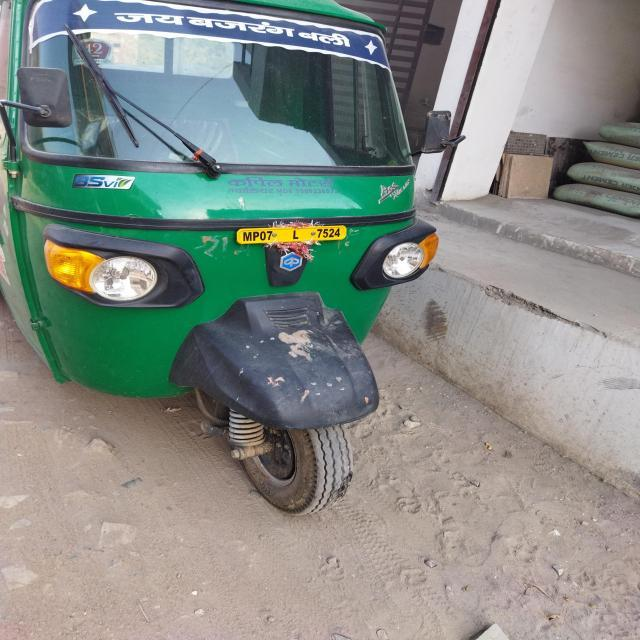plate: (234, 223, 347, 245)
